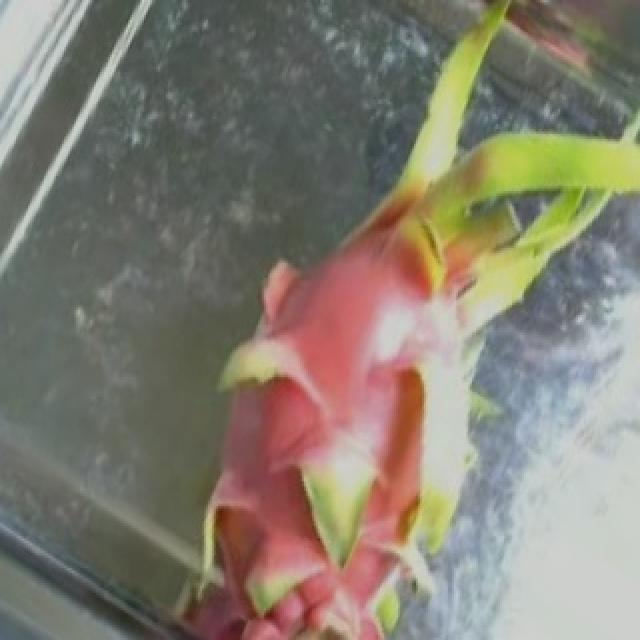fruit: (182, 3, 636, 434), (62, 225, 406, 638)
